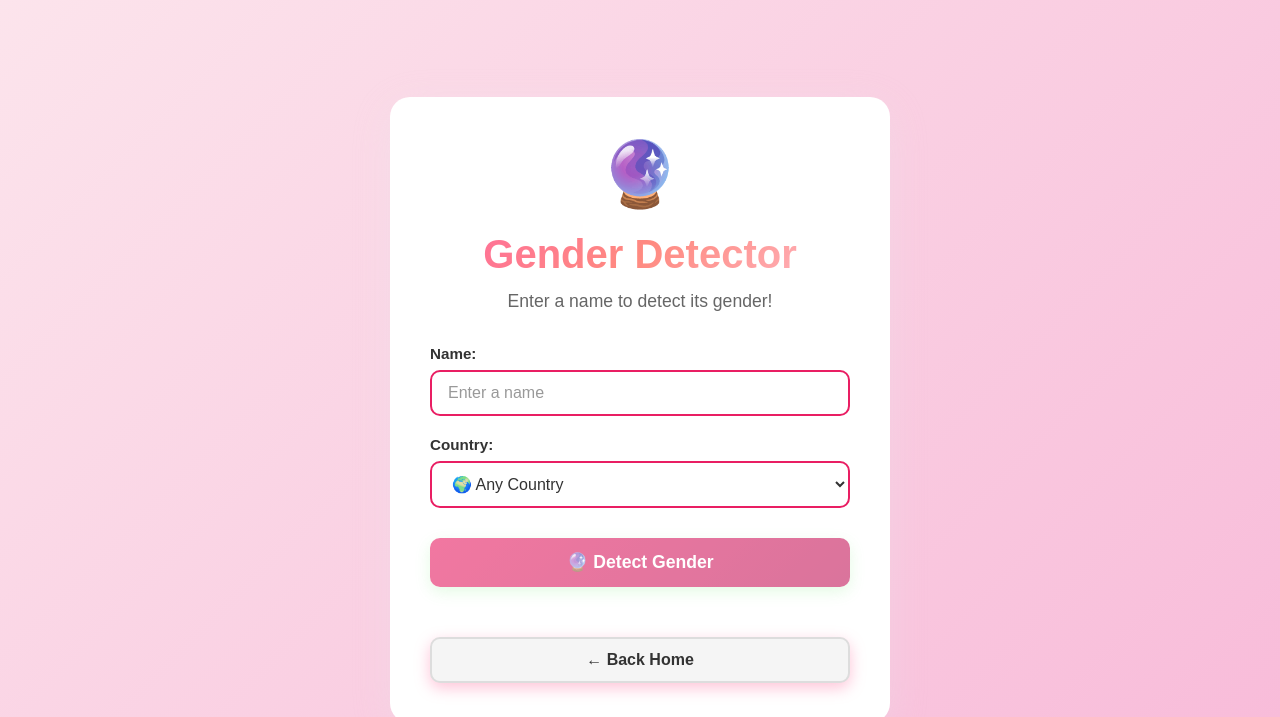
Scenario: GenderPicker › displays female result correctly
Type "Alice" into the field with id "name". click: coordinates (640, 393)
box: [430,370,850,416]
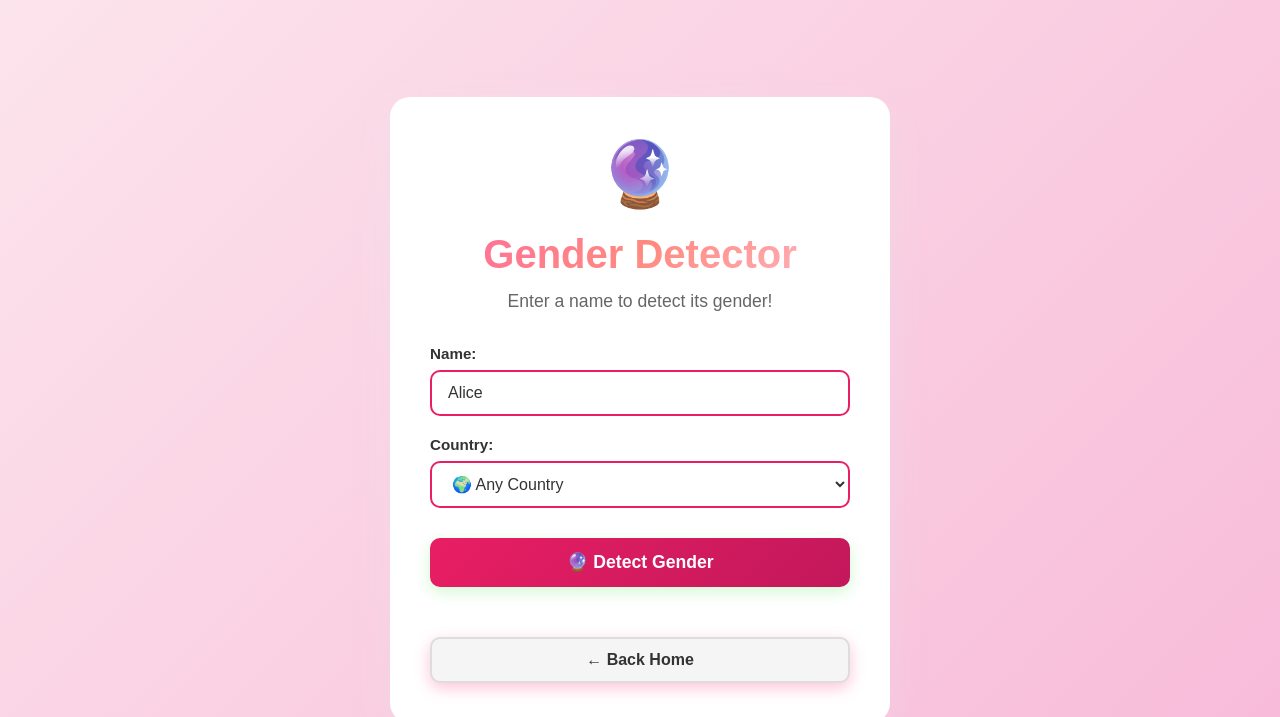
Submit the form, box [430,345,850,587]
(page scrolled)
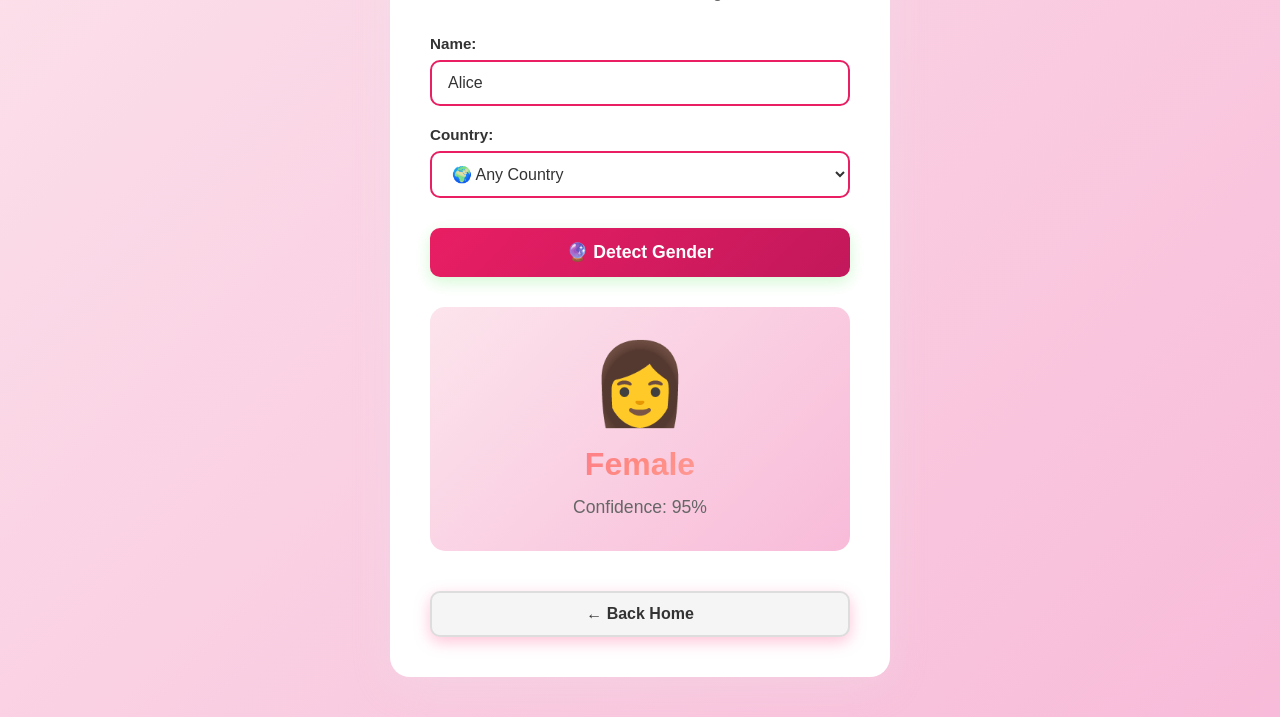
Expected: the element with class "gender-result" is shown, [430,307,850,551]
Expected: the element with class "gender-result" shows "Female", [585,446,695,482]
Expected: the element with class "gender-result" shows "95%", [573,497,707,517]
